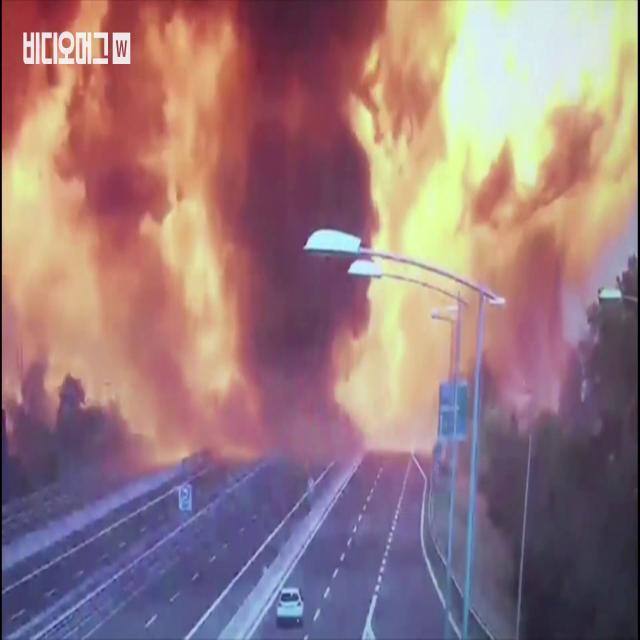explosion: (4, 0, 640, 581)
